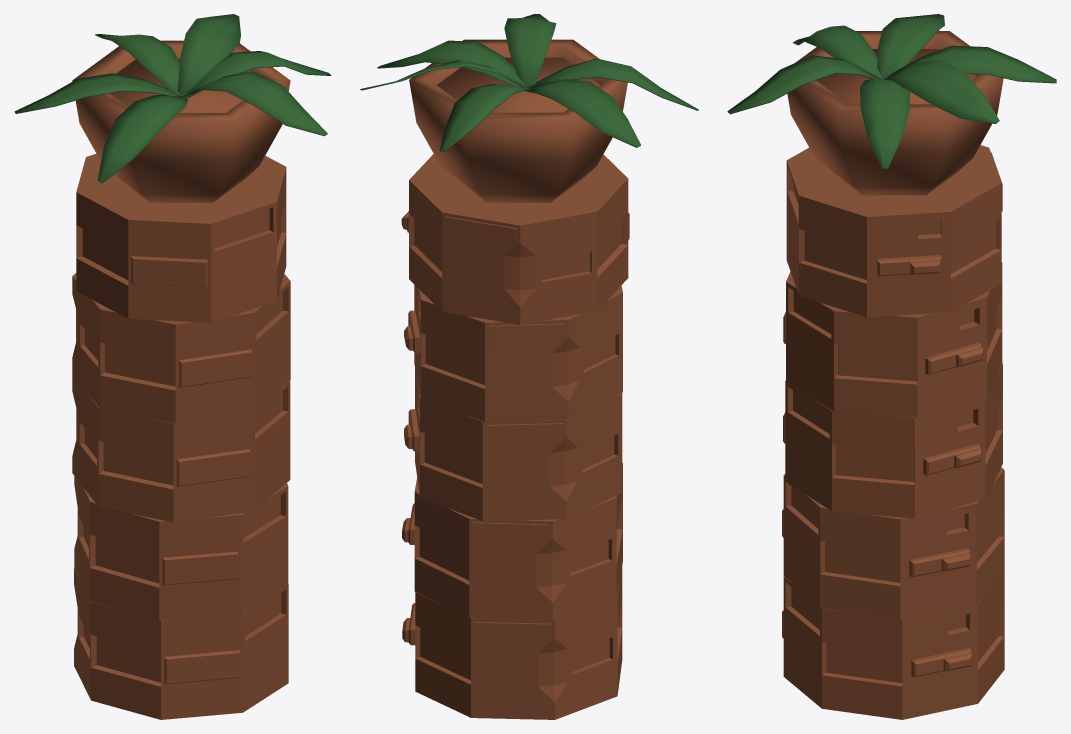
File: Pillar.fbx
3 views of the same model, side by side, from view 1: azimuth 30°, elevation 25°; view 2: azimuth 150°, elevation 25°; view 3: azimuth 270°, elevation 25° (orthographic).
Parts seen in each view (by area): view 1: Pillar.001; view 2: Pillar.001; view 3: Pillar.001.
Boxes of the visible parts, x1,y1,x2,y2 form: Pillar.001: (14, 14, 331, 719); Pillar.001: (360, 14, 698, 719); Pillar.001: (727, 14, 1056, 719).
Size of the model in its own units: 305 by 625 by 297.
